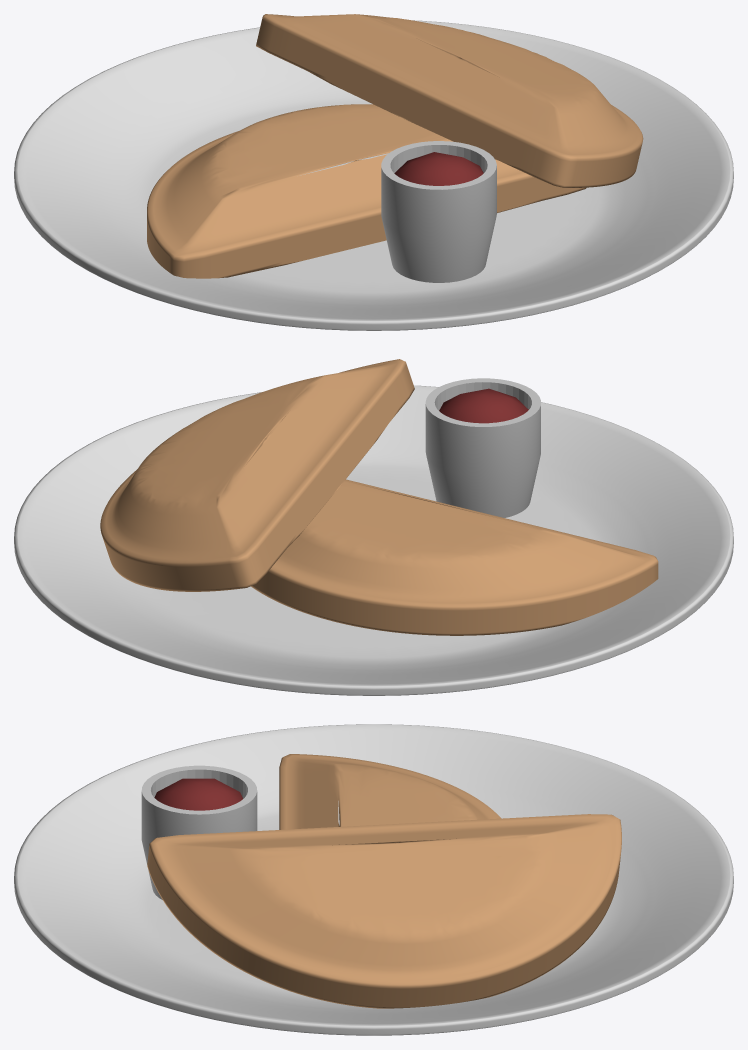
The model's file is sample.gltf.
The picture shows the model from 3 angles, top to bottom: view 1: azimuth 30°, elevation 25°; view 2: azimuth 150°, elevation 25°; view 3: azimuth 270°, elevation 25°; orthographic projection.
Parts seen in each view (by area): view 1: 3; view 2: 3; view 3: 3.
Boxes of the visible parts, x1,y1,x2,y2 form: 3: (14, 14, 733, 330); 3: (14, 359, 733, 695); 3: (14, 724, 733, 1035).
Bounding box in the file's own units: 0.2817 × 0.0516 × 0.2817.
